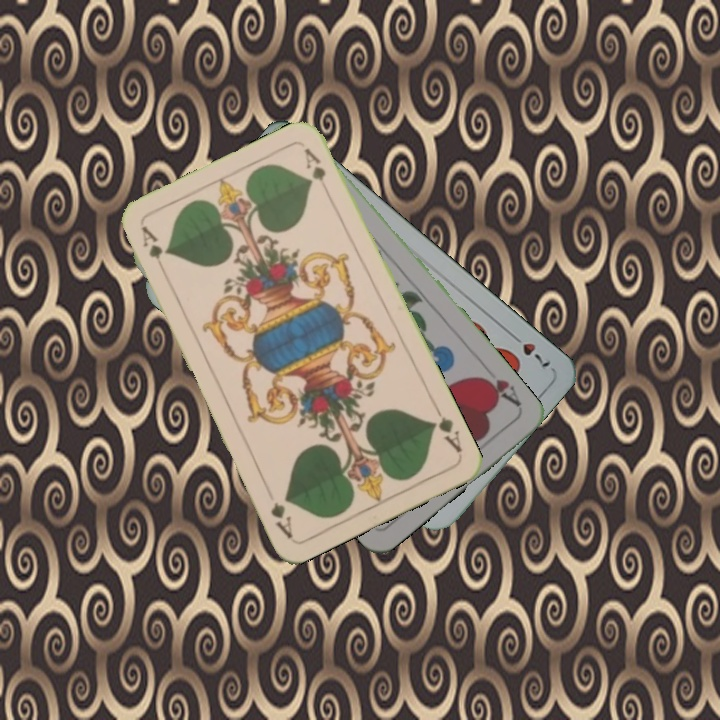GA: (426, 402, 465, 456), (137, 222, 170, 278)
H7: (505, 328, 553, 370)
HA: (474, 371, 525, 410)
